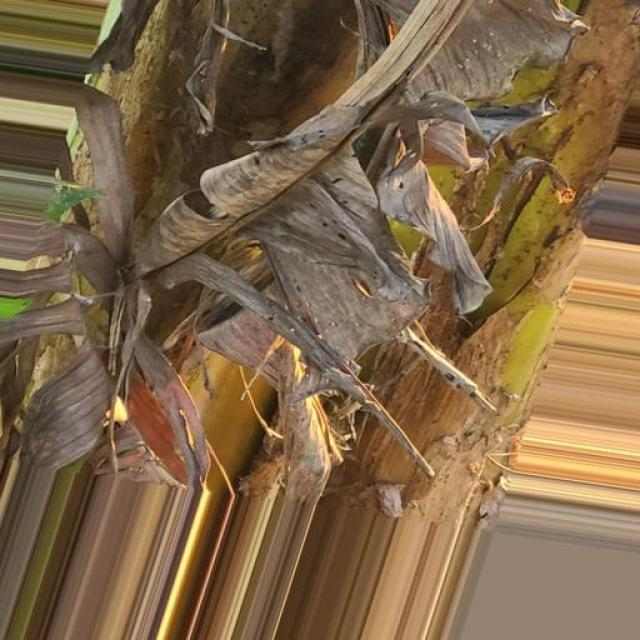Bract_mosaic_virus: (8, 201, 536, 511), (59, 0, 640, 278)
